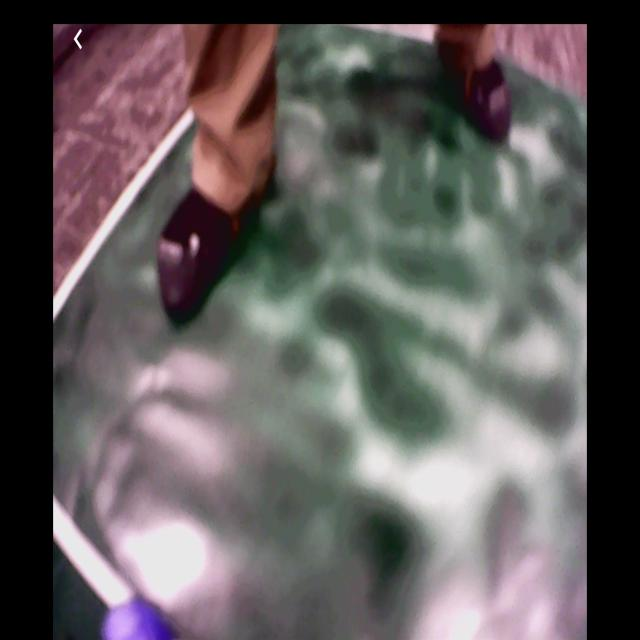ball: (103, 601, 170, 640)
